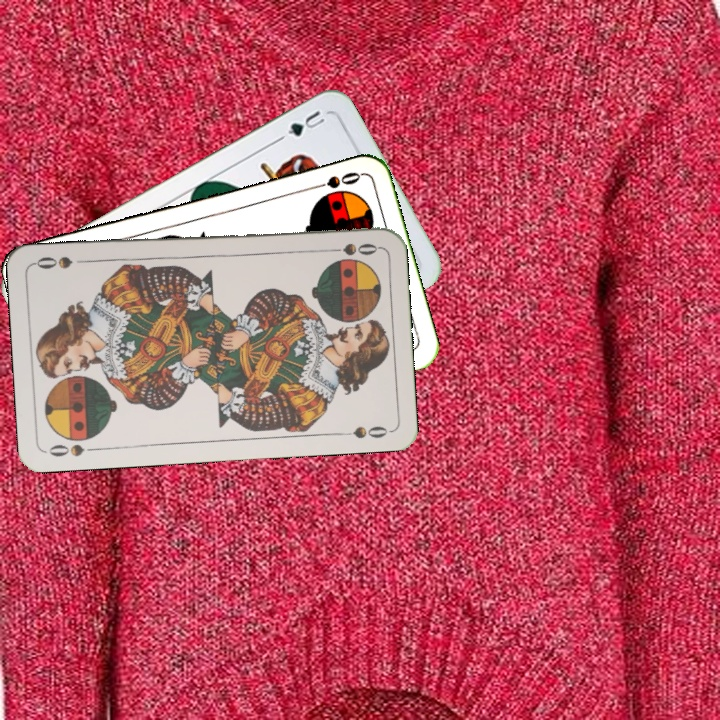GU: (275, 106, 328, 143)
SO: (305, 167, 364, 192), (45, 440, 102, 460), (321, 239, 380, 258)
